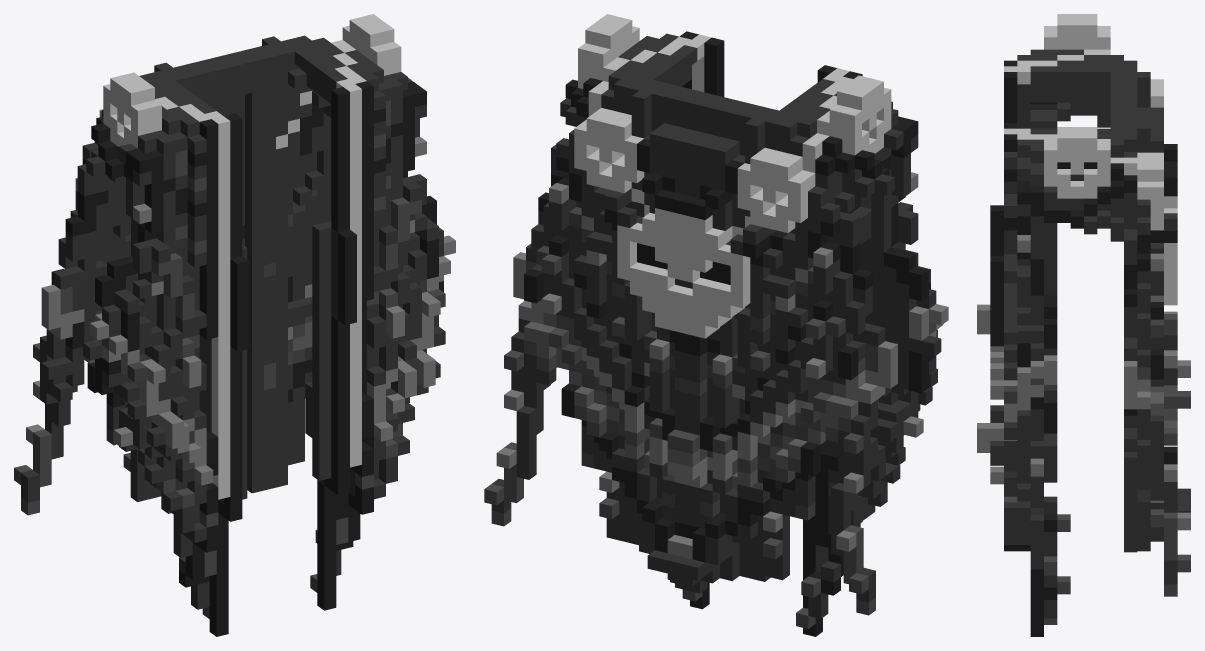
File: momaku.glb
3 renders of one model, left to right at view 1: azimuth 30°, elevation 25°; view 2: azimuth 150°, elevation 25°; view 3: azimuth 270°, elevation 25°, orthographic. The views are drawn at different scales.
Visible parts, largest first — view 1: CAPE; view 2: CAPE; view 3: CAPE.
Part boxes in pixels (box(x1,y1,x2,y2)): CAPE: box(14, 14, 455, 636); CAPE: box(484, 14, 948, 636); CAPE: box(977, 14, 1190, 636).
Size of the model in its own units: 1.29 by 1.89 by 0.688.
1 material, 1 textured.
